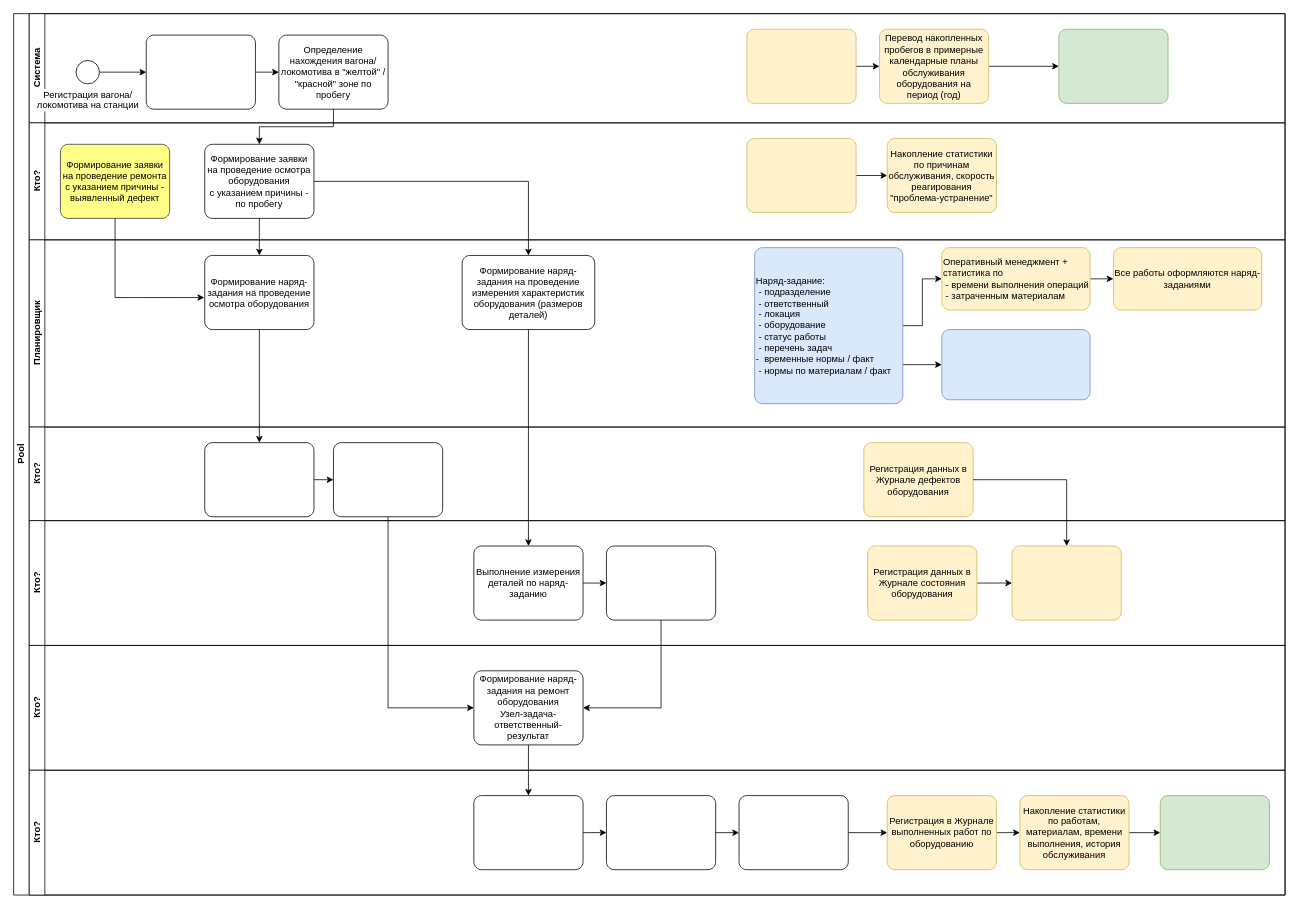
Some shapes in this 1299 by 909 pixel diagram are drawn without their labels. The centre of each missing label's shape, as x and y in pixels:
"Выполнение осмотра оборудования" goes at (x=259, y=479).
"Жизненный цикл работы: - планирование - выполнение - закрытие работы" goes at (x=1015, y=364).
"Закрытие наряд-задания по ремонту" goes at (x=793, y=832).
"Накопление статистики по дефектам /параметрам узлов оборудования" goes at (x=1066, y=582).
"Накопление статистики: как быстро вагоны накапливают пробег" goes at (x=801, y=65).
"План обслуживания на период по статистике пробегов" goes at (x=1113, y=65).
"Проведение приемочного осмотра/измерения деталей" goes at (x=528, y=832).
"Прогноз простоя в плане обслуживания оборудования" goes at (x=1214, y=832).
"Расчет пробега с момента последнего обслуживания (в разрезе типов обслуживания)" goes at (x=200, y=71).
"Регистрация заявки в Журнале заявок на обслуживание" goes at (x=801, y=175).
"Регистрация Узел-параметр-размер-норма (или нет)" goes at (x=661, y=582).
"Регистрация: Узел-параметр-состояние-тип дефекта" goes at (x=388, y=479).
"Формирование акта на приемку из ремонта" goes at (x=661, y=832).
